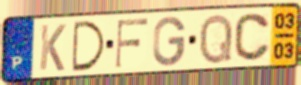C: (233, 11, 272, 63)
D: (71, 19, 108, 73)
F: (113, 17, 150, 70)
G: (151, 15, 188, 68)
K: (38, 23, 68, 73)
Q: (197, 12, 235, 67)
